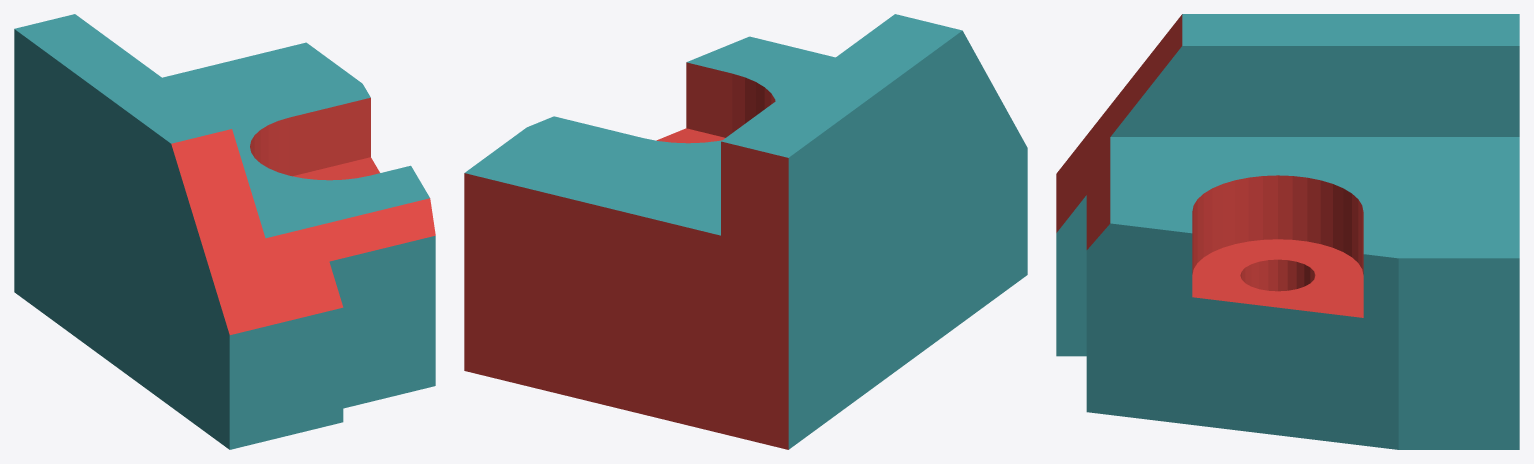
The model's file is Model Q2B code.gltf.
3 views of the same model, side by side, from view 1: azimuth 30°, elevation 25°; view 2: azimuth 150°, elevation 25°; view 3: azimuth 270°, elevation 25° (orthographic). The views are drawn at different scales.
Parts seen in each view (by area): view 1: Model Q2B; view 2: Model Q2B; view 3: Model Q2B.
Boxes of the visible parts, x1,y1,x2,y2 form: Model Q2B: [14, 14, 435, 449]; Model Q2B: [464, 14, 1027, 449]; Model Q2B: [1056, 14, 1519, 449].
Bounding box in the file's own units: 7.2 × 6.2 × 9.2.
